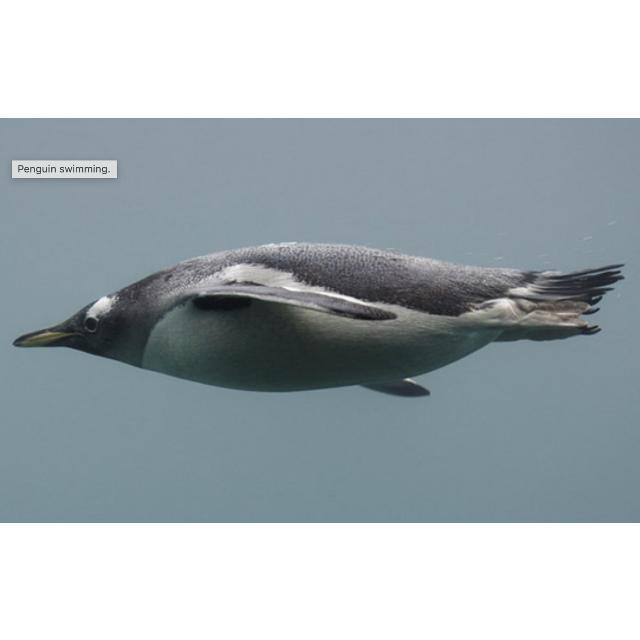penguin: (12, 242, 624, 399)
